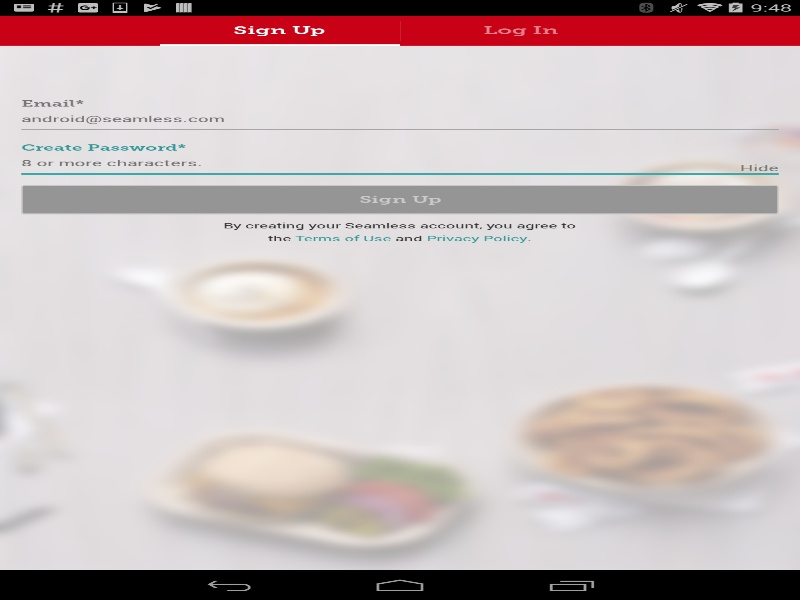Button: (21, 185, 778, 215)
Input: (21, 108, 778, 131), (21, 152, 778, 175)
